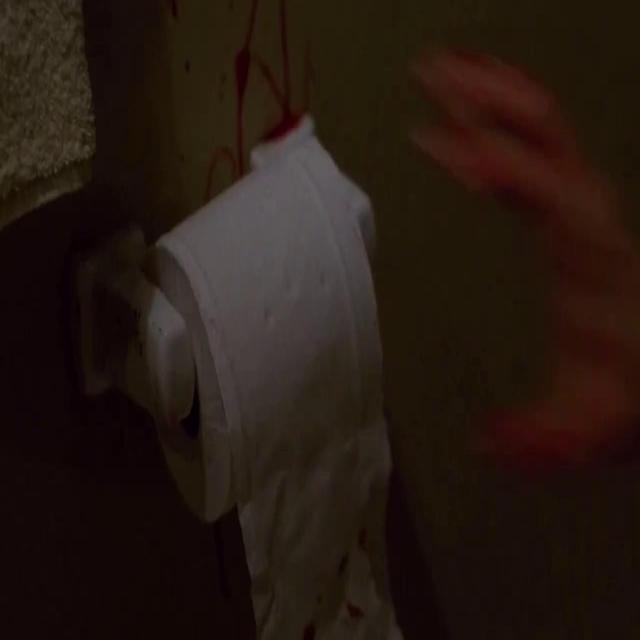flood: (222, 2, 314, 158)
